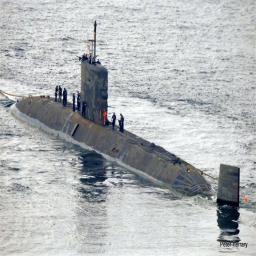submarine: (12, 15, 242, 209)
